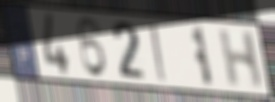1: (189, 23, 216, 90)
2: (112, 19, 152, 81)
4: (42, 11, 72, 78)
6: (75, 15, 109, 79)
H: (217, 29, 265, 91)
I: (147, 22, 169, 84)
